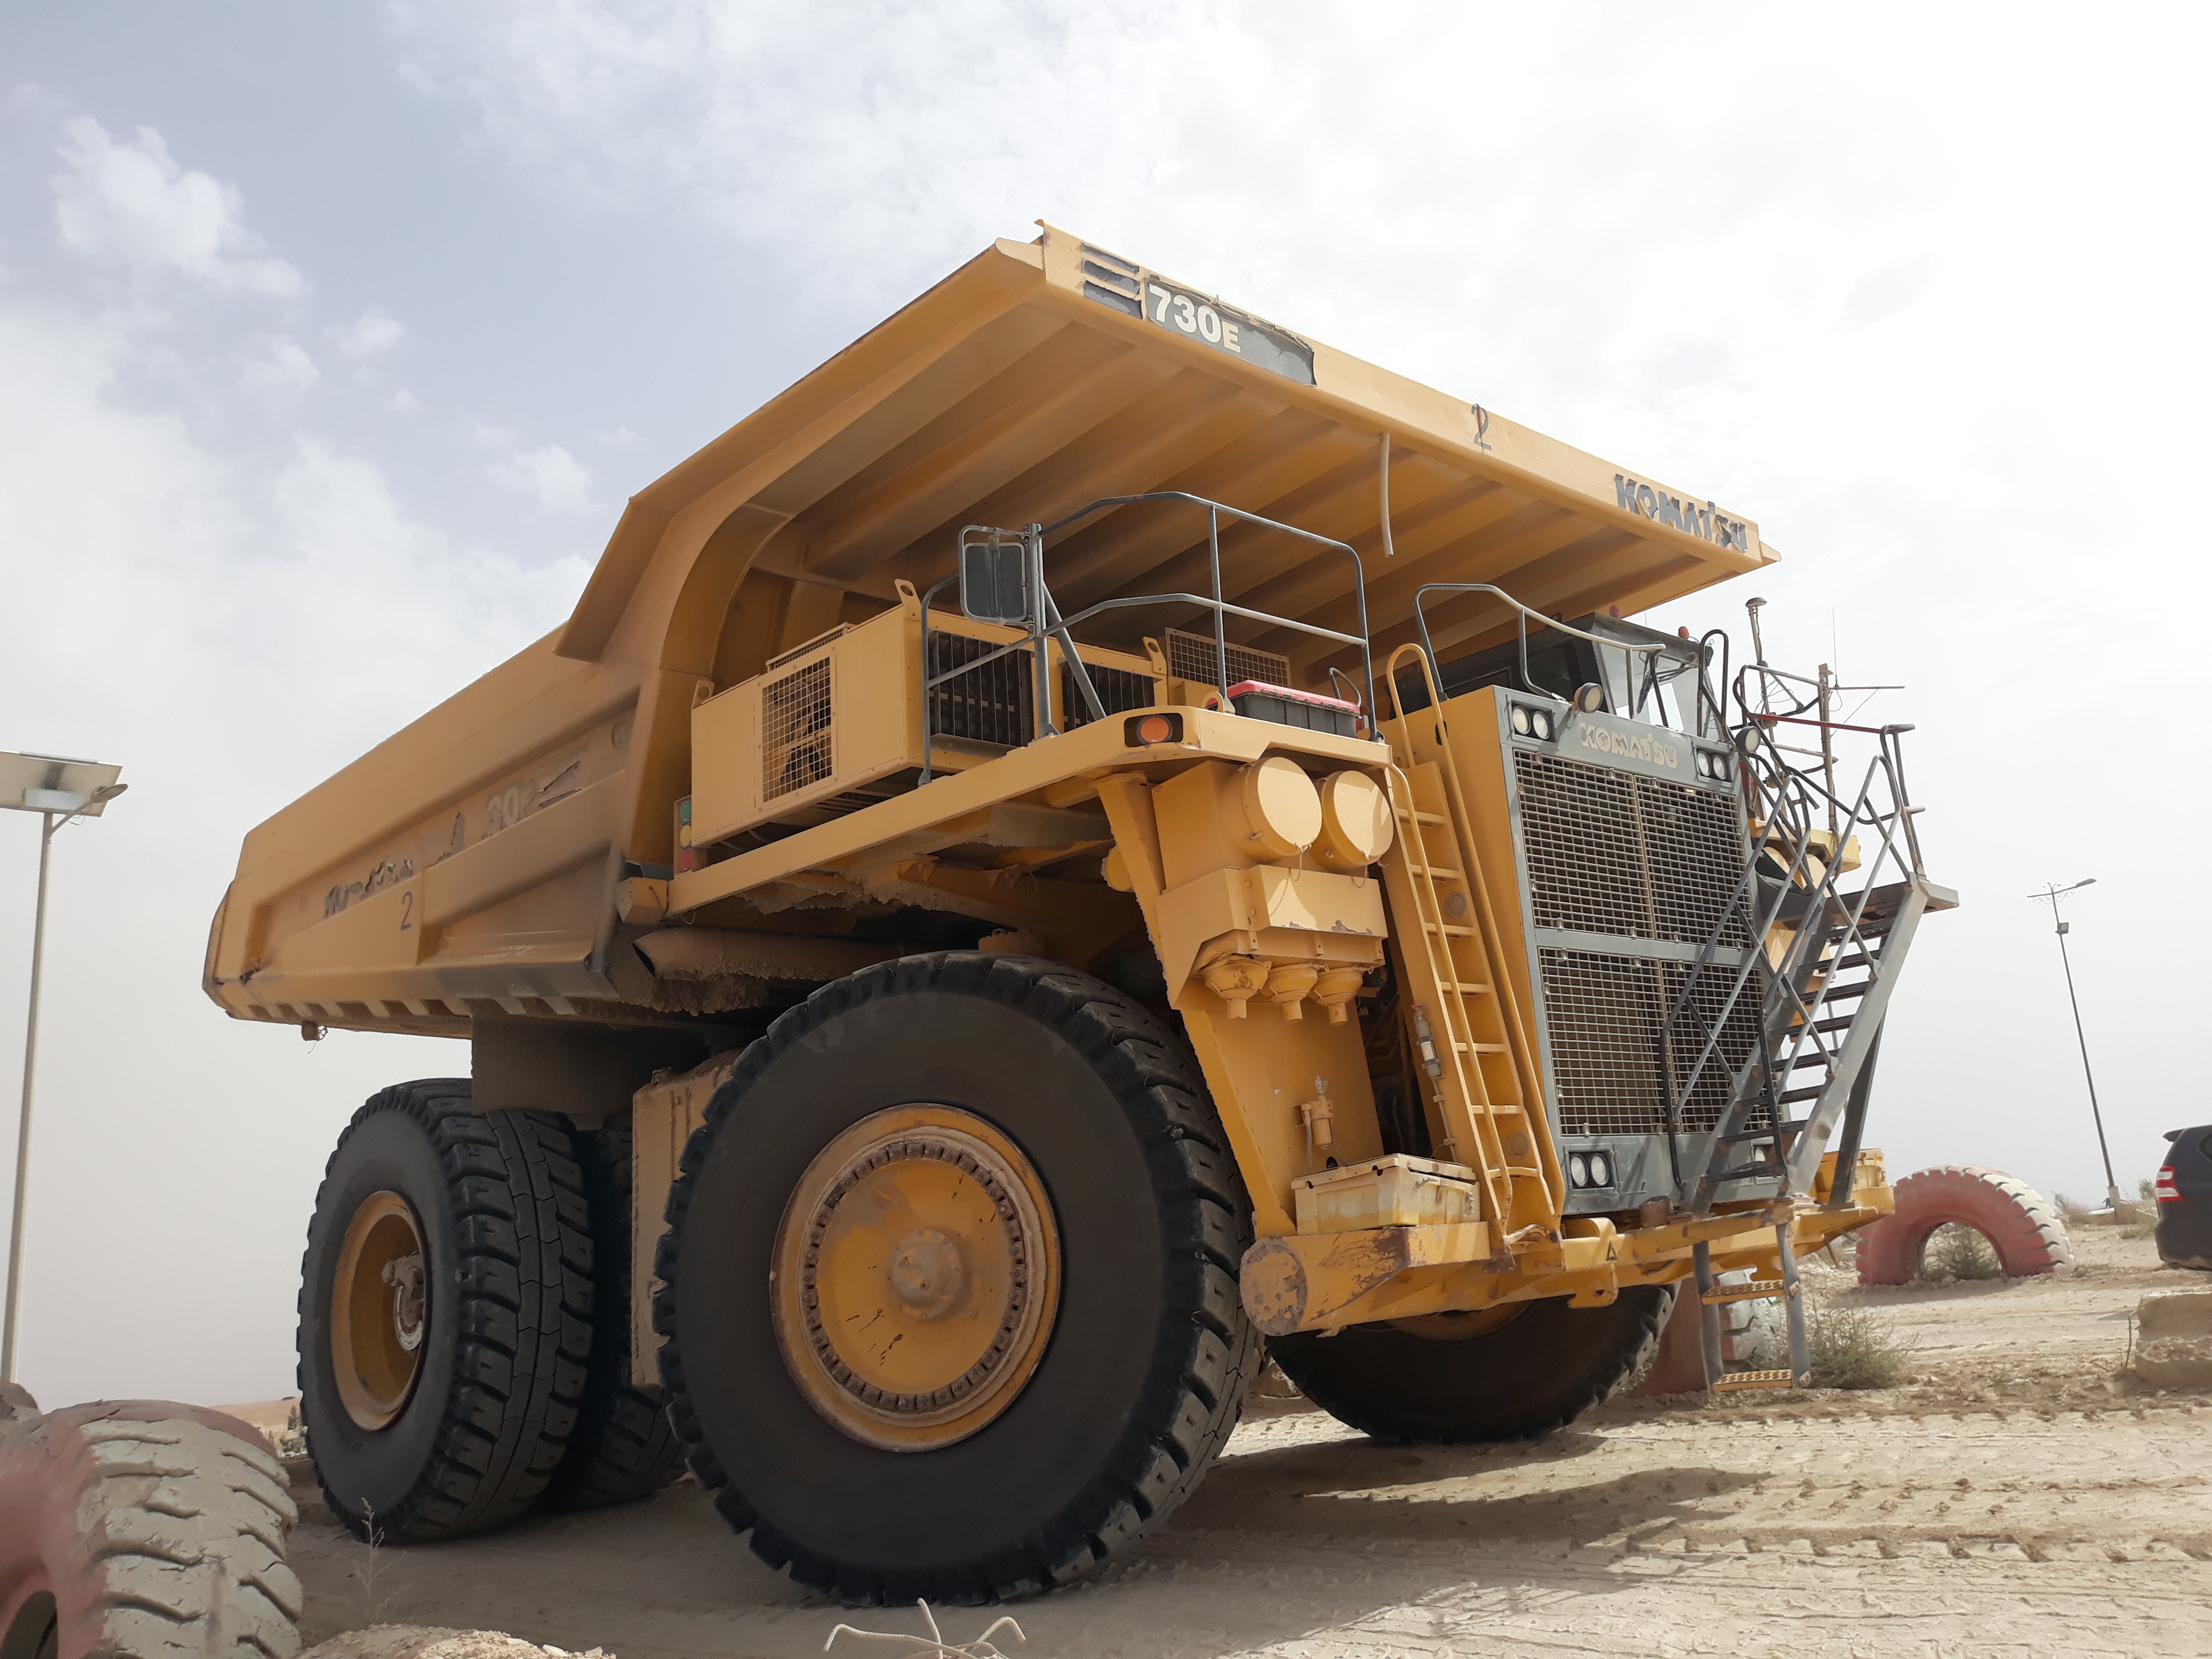camion: (193, 213, 2003, 1612)
